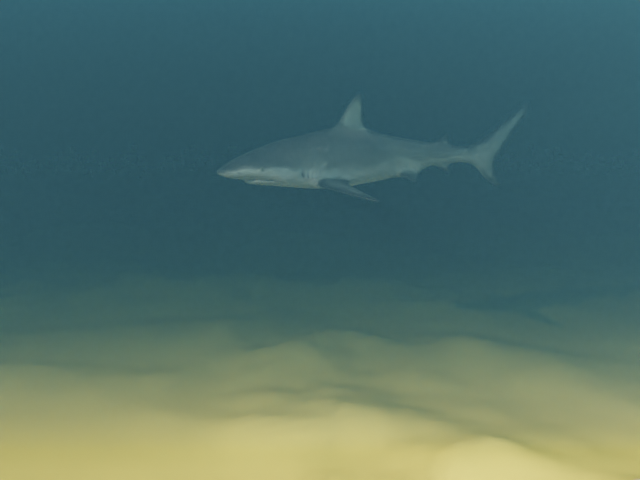Carribean Shark.001: (216, 93, 528, 201)
